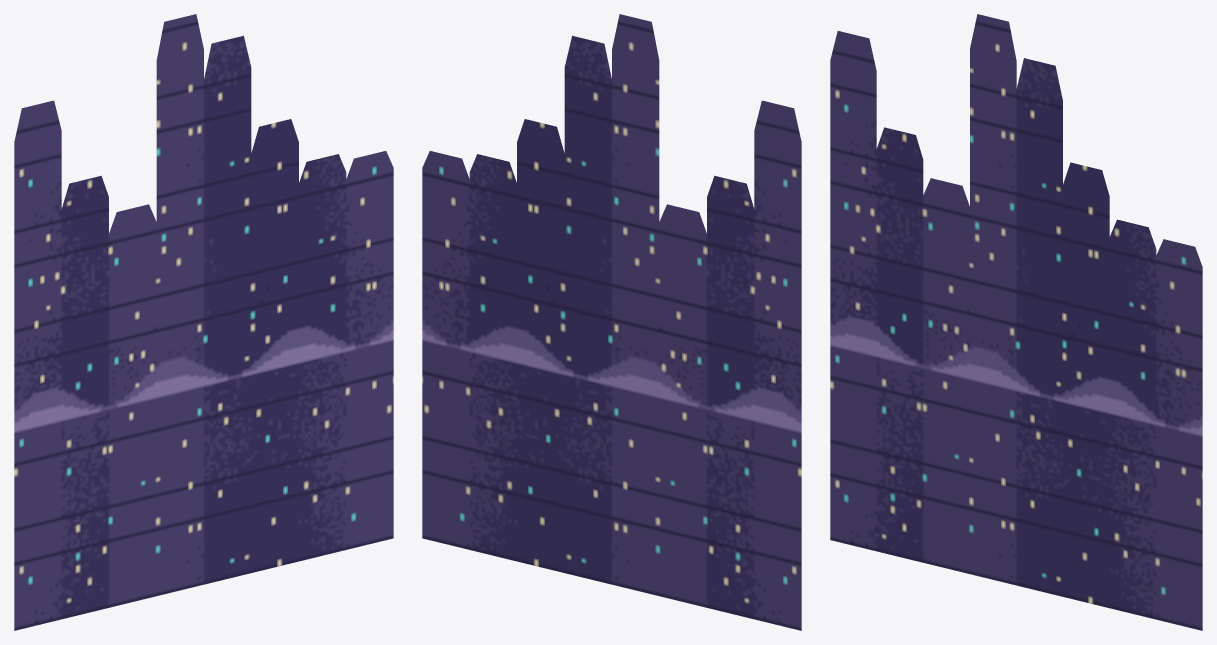
Rendered from cysky.far__tile.glb.
3 renders of one model, left to right at view 1: azimuth 30°, elevation 25°; view 2: azimuth 150°, elevation 25°; view 3: azimuth 330°, elevation 25°, orthographic.
Visible parts, largest first — view 1: kit_card_skyline; view 2: kit_card_skyline; view 3: kit_card_skyline.
Boxes of the visible parts, box(x1,y1,x2,y2) form: kit_card_skyline: box(14, 14, 393, 630); kit_card_skyline: box(422, 14, 801, 630); kit_card_skyline: box(830, 14, 1202, 630).
Size of the model in its own units: 24 by 34.6 by 0.
Materials: 1 (1 with a texture image).
